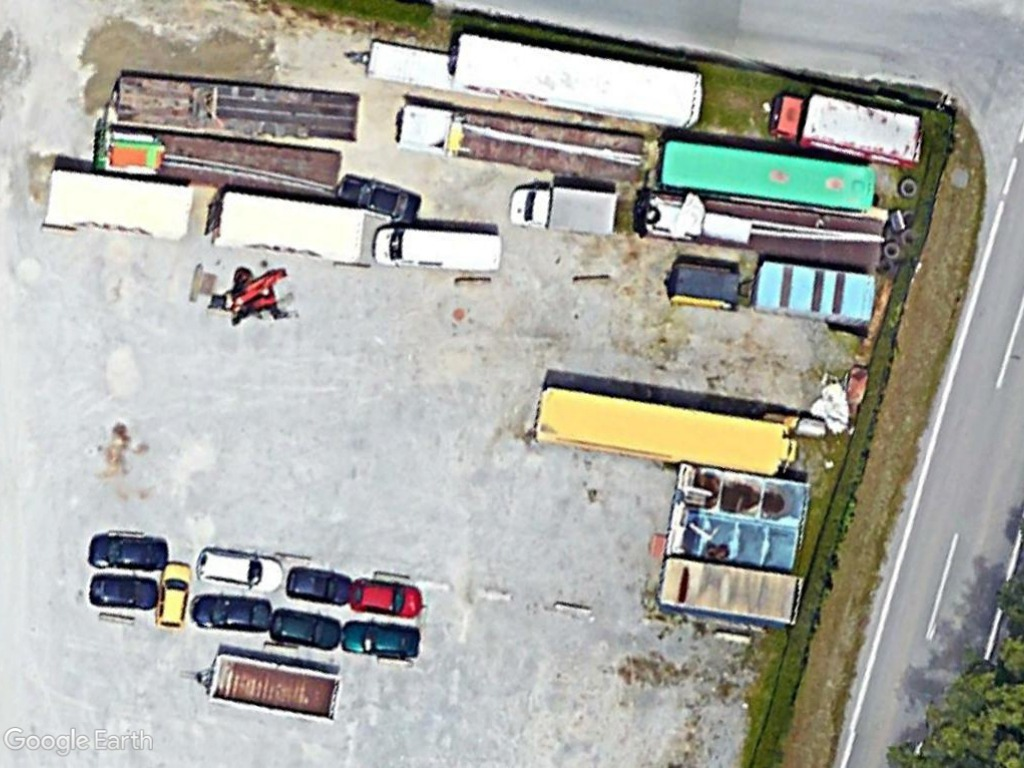bus: (651, 132, 883, 216)
car: (194, 541, 290, 595), (338, 614, 424, 667), (79, 566, 167, 617), (281, 556, 358, 611), (265, 604, 346, 655), (346, 572, 428, 620), (192, 588, 273, 636), (83, 531, 172, 573), (151, 556, 195, 638)
truck: (769, 86, 931, 176), (505, 179, 628, 245)
van: (368, 223, 508, 280)
